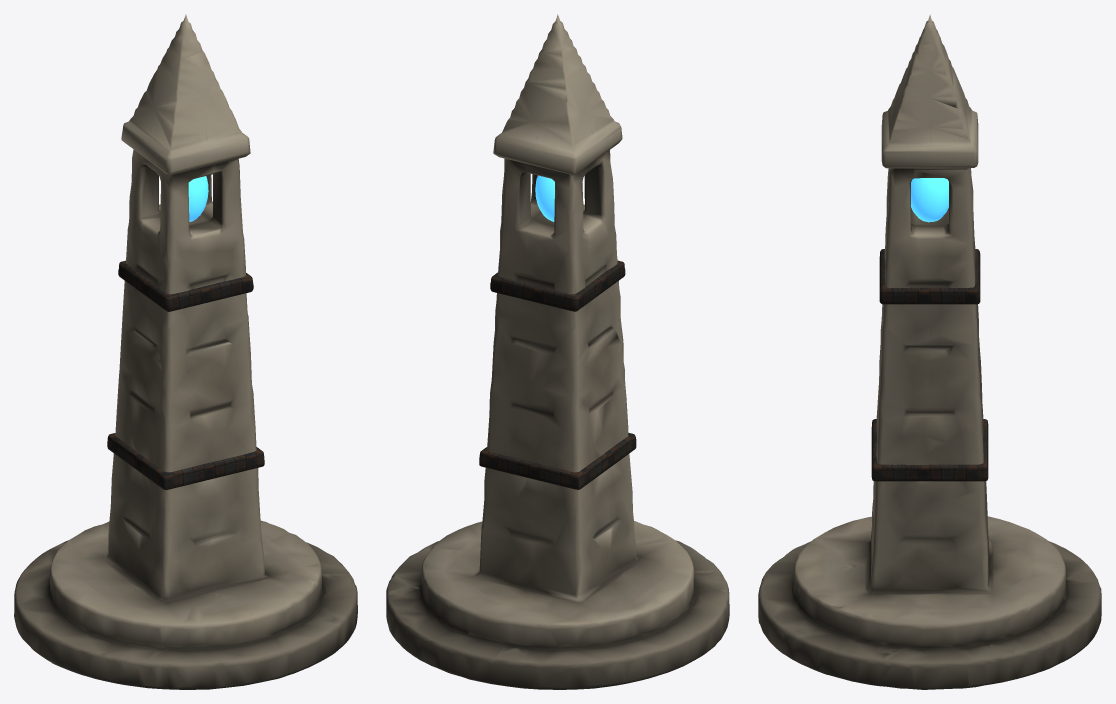
Rendered from needle_outer.glb.
The picture shows the model from 3 angles, left to right: view 1: azimuth 30°, elevation 25°; view 2: azimuth 150°, elevation 25°; view 3: azimuth 270°, elevation 25°; orthographic projection.
Parts seen in each view (by area): view 1: needle_outer_stone, needle_outer_ironstone, needle_outer_accent; view 2: needle_outer_stone, needle_outer_ironstone, needle_outer_accent; view 3: needle_outer_stone, needle_outer_ironstone, needle_outer_accent.
Part boxes in pixels (x1=…): needle_outer_stone: x1=14, y1=14, x2=357, y2=689; needle_outer_ironstone: x1=107, y1=260, x2=264, y2=489; needle_outer_accent: x1=188, y1=176, x2=208, y2=221; needle_outer_stone: x1=386, y1=14, x2=729, y2=689; needle_outer_ironstone: x1=479, y1=260, x2=636, y2=489; needle_outer_accent: x1=535, y1=175, x2=554, y2=221; needle_outer_stone: x1=758, y1=14, x2=1101, y2=689; needle_outer_ironstone: x1=871, y1=249, x2=988, y2=481; needle_outer_accent: x1=911, y1=178, x2=948, y2=222.
Bounding box in the file's own units: 3.59 × 6.98 × 3.59.
Materials: 3 (2 with a texture image).
